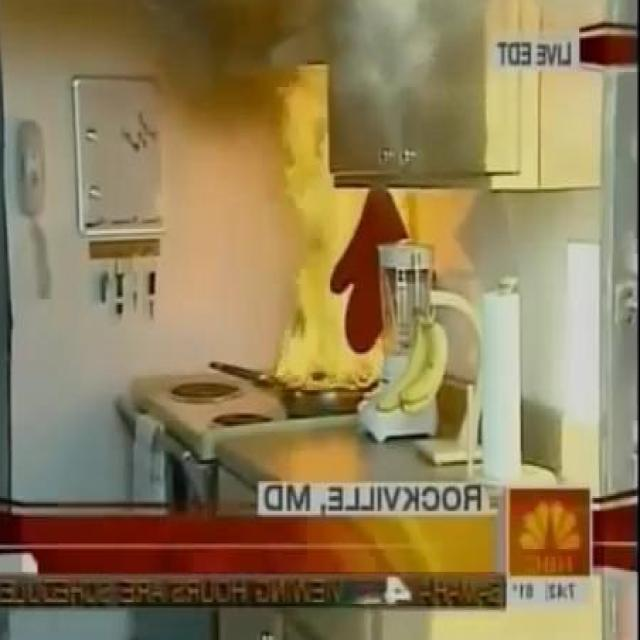fire: (128, 0, 295, 134), (332, 0, 438, 146)
smoke: (272, 63, 393, 386)
